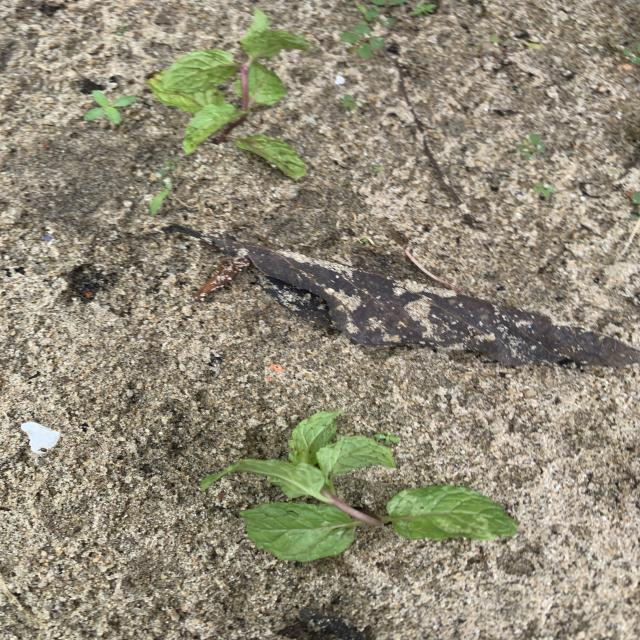crop: (205, 409, 513, 562), (148, 8, 310, 154)
weed: (340, 0, 394, 58), (84, 91, 135, 123), (517, 134, 548, 161), (150, 186, 171, 215), (157, 158, 188, 177), (374, 432, 401, 447), (534, 182, 557, 199), (409, 4, 437, 17), (342, 94, 362, 110)
